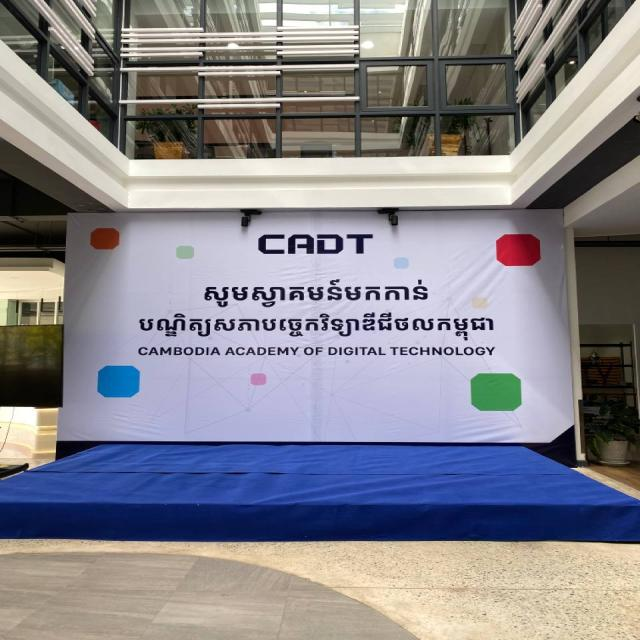Yolov11kh: (133, 306, 509, 343), (195, 273, 437, 309)
